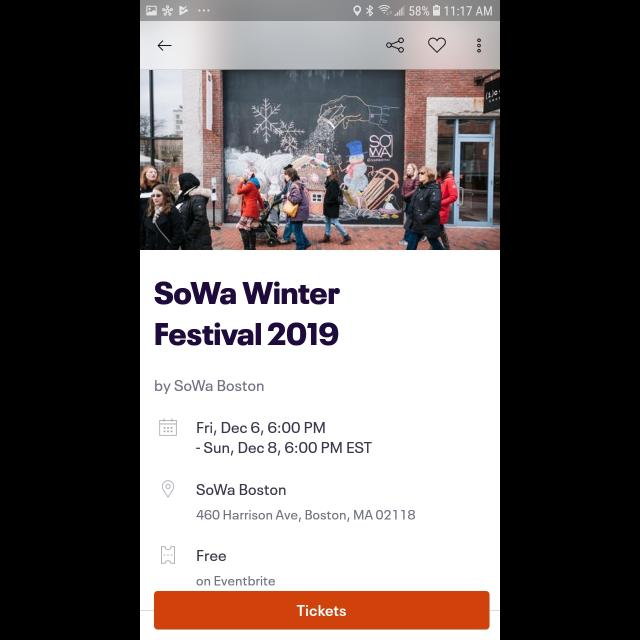icon: (159, 418, 177, 436), (386, 38, 404, 54), (428, 38, 446, 54), (161, 546, 175, 564), (162, 480, 174, 498), (158, 40, 172, 51), (477, 39, 481, 53)
image: (140, 70, 500, 250)
text: (155, 282, 341, 346), (196, 422, 372, 456), (197, 510, 415, 522), (156, 380, 264, 394), (197, 484, 287, 496), (197, 576, 275, 586), (198, 550, 226, 562)
textbutton: (155, 590, 490, 630)
uppertaskbar: (140, 1, 500, 22)
